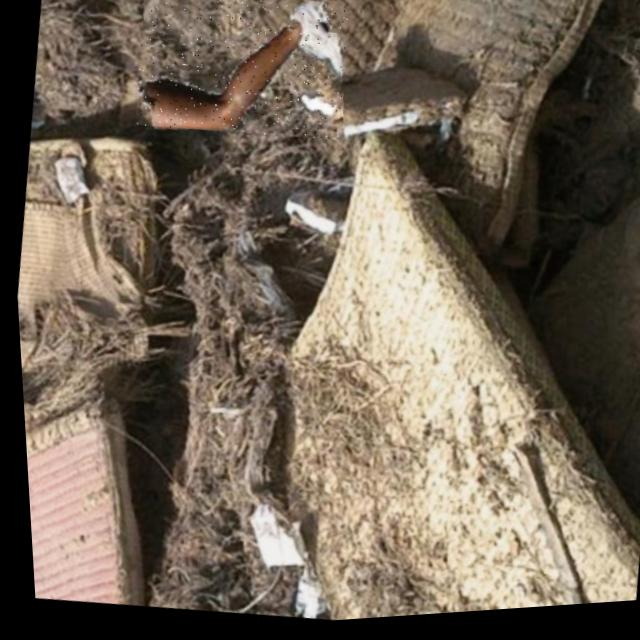Person in Rubble: (127, 0, 355, 153)
